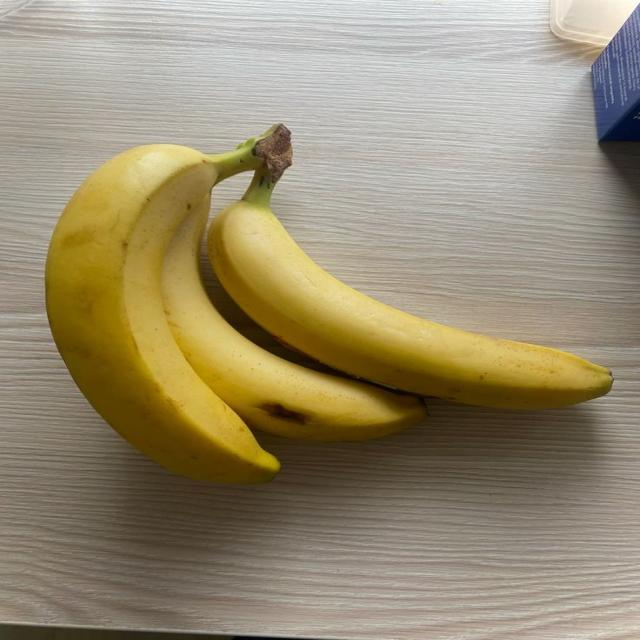unpeal banana: (208, 170, 612, 408), (46, 140, 279, 482), (163, 197, 426, 441)
